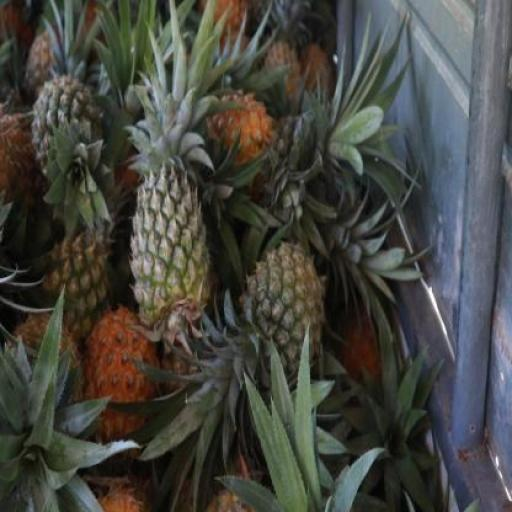Pineapple - v8 v1: (80, 307, 155, 454), (198, 82, 278, 164)
